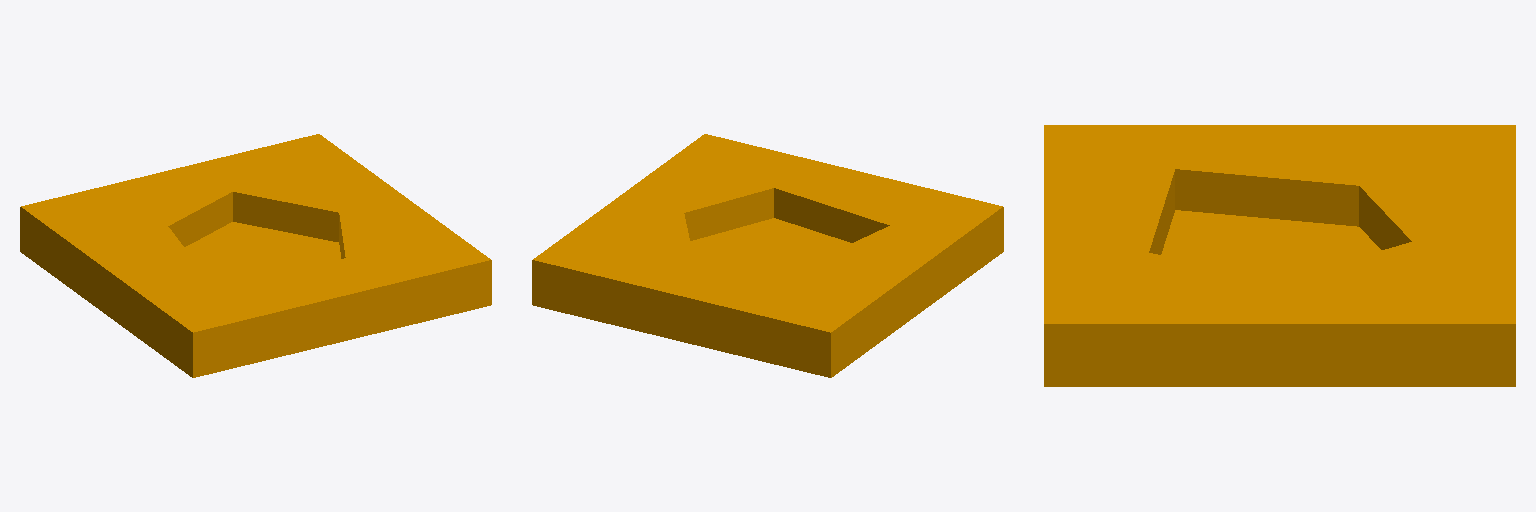
The robot description file, URDF, robot "puzzle_recess_asymmetric":
<?xml version='1.0' encoding='utf-8'?>
<robot name="puzzle_recess_asymmetric">
  <link name="body">
    <inertial>
      <origin xyz="0.00016081387319898956 0.0008502493849564855 0.016526323499406904" />
      <mass value="0.1" />
      <inertia ixx="0.0005510576316444817" iyy="0.0005525394428516973" izz="0.0010826559875813054" ixy="1.645552923424266e-06" ixz="-1.1214639284971923e-07" iyz="-5.929364155514653e-07" />
    </inertial>
    <collision>
      <geometry>
        <mesh filename="part_00.obj" />
      </geometry>
    </collision>
    <collision>
      <geometry>
        <mesh filename="part_01.obj" />
      </geometry>
    </collision>
    <collision>
      <geometry>
        <mesh filename="part_02.obj" />
      </geometry>
    </collision>
    <collision>
      <geometry>
        <mesh filename="part_03.obj" />
      </geometry>
    </collision>
    <collision>
      <geometry>
        <mesh filename="part_04.obj" />
      </geometry>
    </collision>
    <collision>
      <geometry>
        <mesh filename="part_05.obj" />
      </geometry>
    </collision>
    <collision>
      <geometry>
        <mesh filename="part_06.obj" />
      </geometry>
    </collision>
    <visual>
      <geometry>
        <mesh filename="visual.obj" />
      </geometry>
    </visual>
  </link>
</robot>

--- Facts derived from the render (not from the file) ---
The picture shows the robot from 3 angles, left to right: view 1: azimuth 30°, elevation 25°; view 2: azimuth 150°, elevation 25°; view 3: azimuth 270°, elevation 25°; orthographic projection.
Model puzzle_recess_asymmetric with 1 links and 0 joints (none), rooted at body, posed all joints at 0.
Visible links, largest first — view 1: body; view 2: body; view 3: body.
Link boxes in pixels (x1=…): body: x1=20, y1=134, x2=491, y2=377; body: x1=532, y1=134, x2=1003, y2=377; body: x1=1044, y1=125, x2=1515, y2=386.
Bounding box of the posed robot: 0.24 × 0.24 × 0.035 m (x, y, z).
1 mesh visuals loaded from 1 distinct referenced files (1 OBJ).
